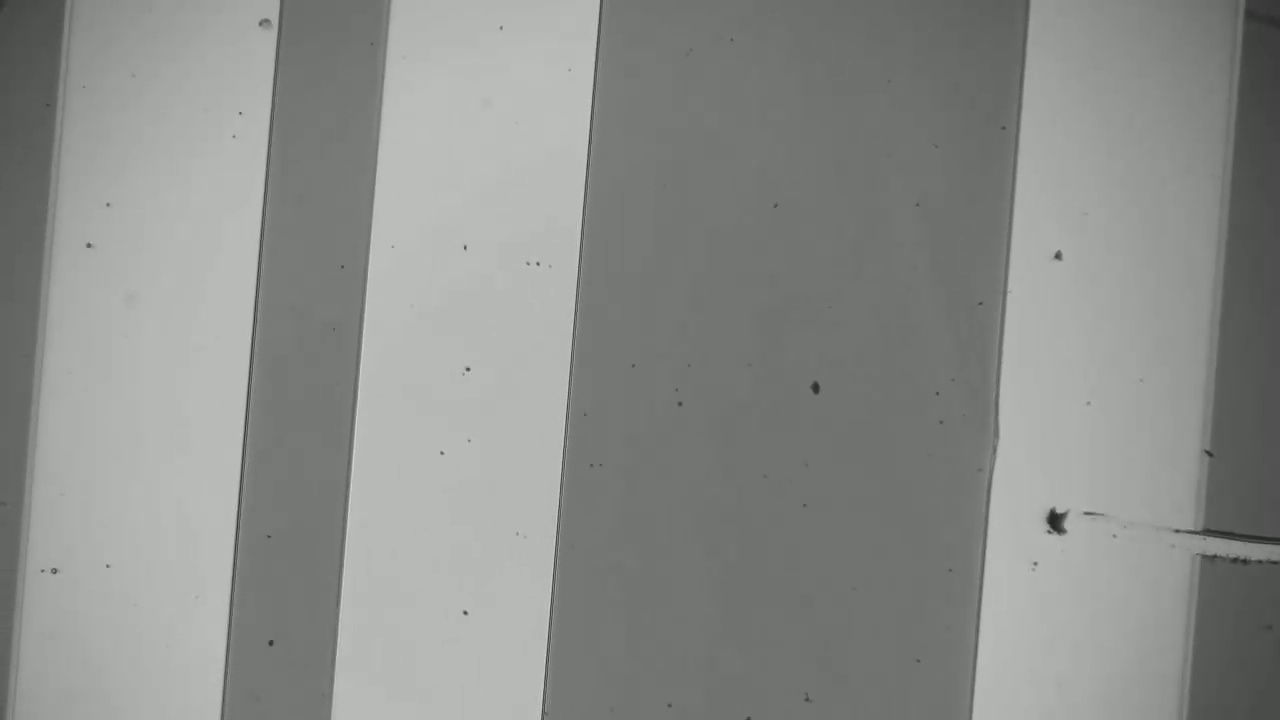Short_circuit: (1163, 512, 1279, 581)
